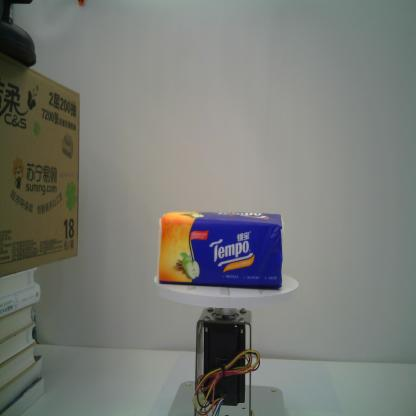Tissue: (155, 211, 284, 290)
